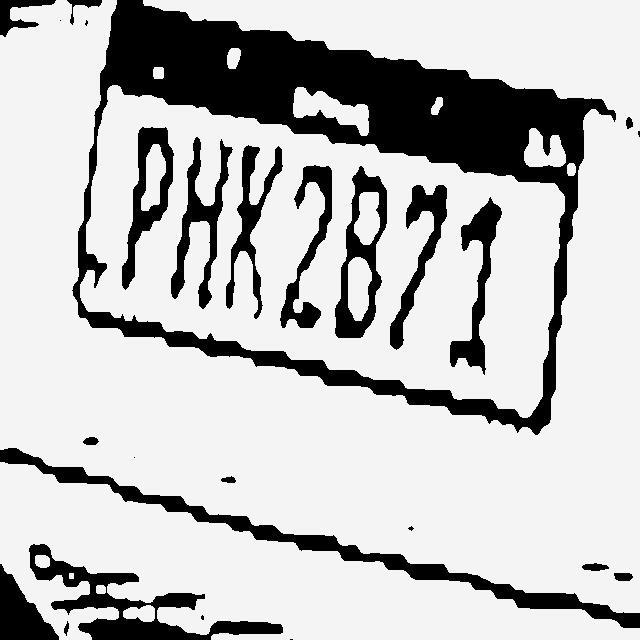1: (450, 194, 502, 380)
2: (282, 158, 336, 337)
7: (395, 176, 449, 357)
b: (336, 162, 388, 348)
h: (176, 130, 228, 311)
k: (228, 137, 278, 319)
p: (126, 120, 176, 294)
